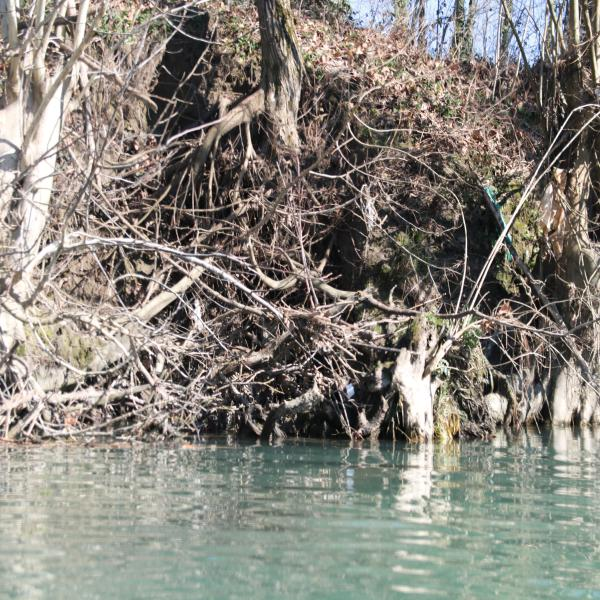others: (481, 181, 512, 260)
